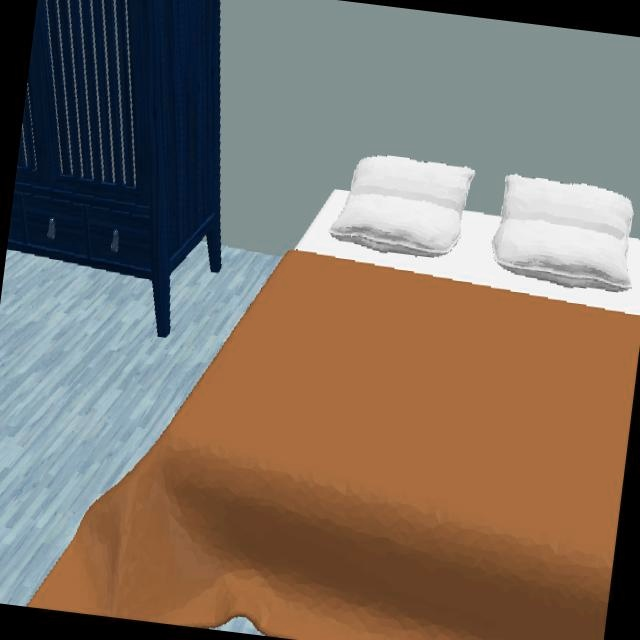bed: (25, 195, 640, 640)
pillow: (491, 174, 635, 293), (329, 155, 474, 259)
wardrobe: (6, 0, 221, 338)
